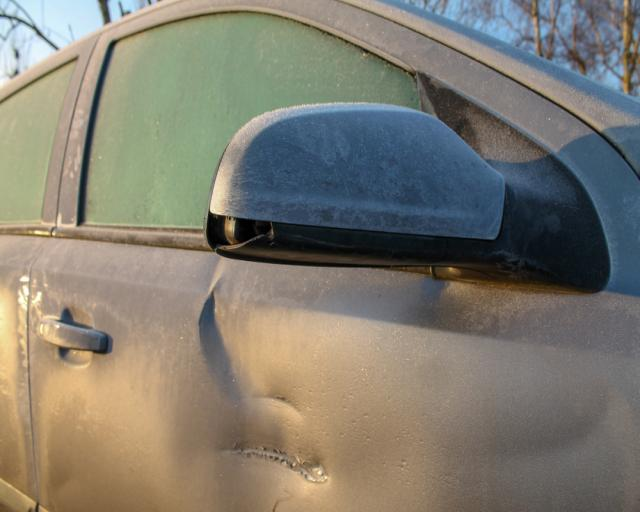dent: (170, 305, 414, 512), (495, 374, 629, 484)
